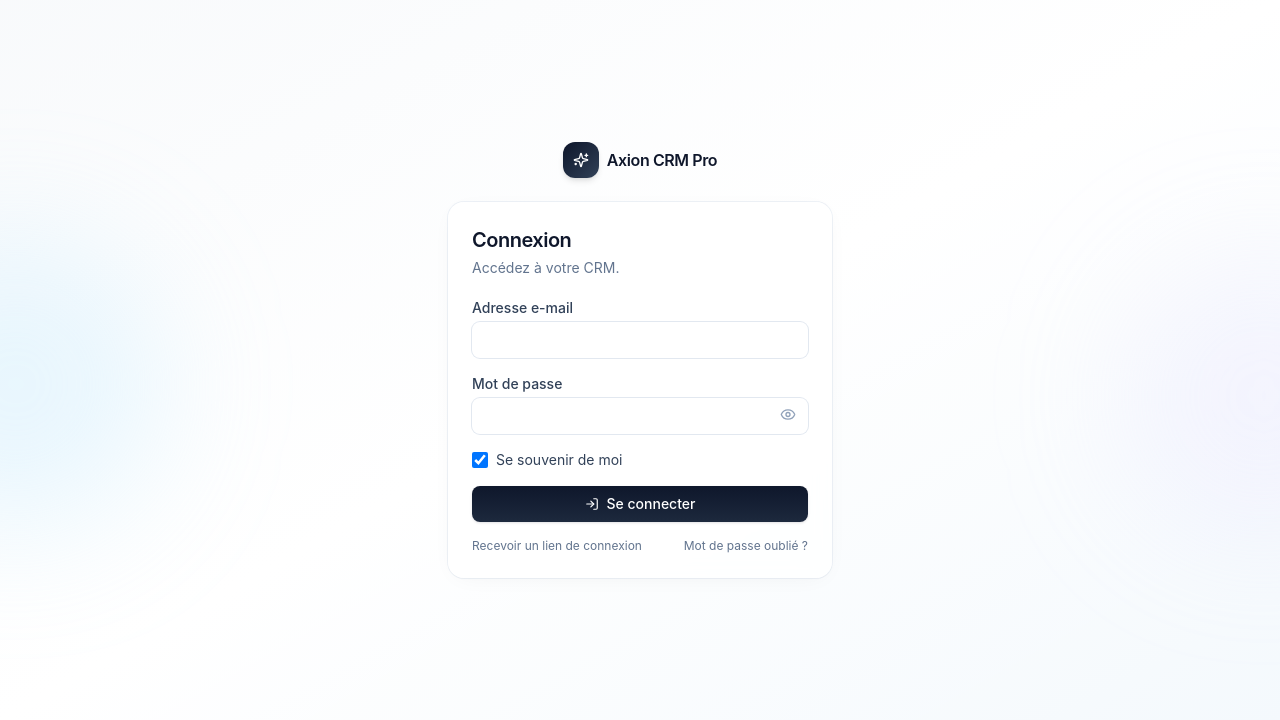
LoginPage — messages d’échec › 429 : « trop d’essais », avec le délai annoncé par Retry-After
Type "will@axion-ia.com" into the field labelled "Adresse e-mail". click: (640, 340)
box: [472, 322, 808, 358]
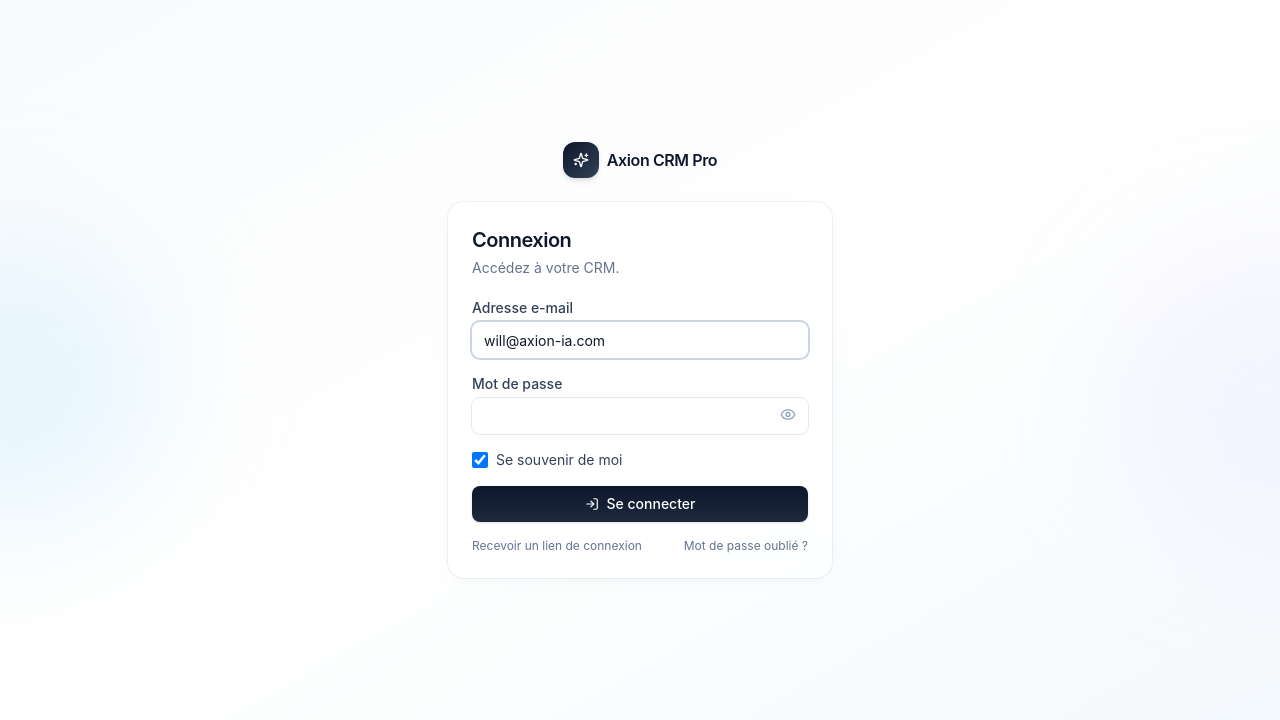
Type "faux-mot-de-passe" into the password field labelled "Mot de passe". click: (640, 416)
box: [472, 398, 808, 434]
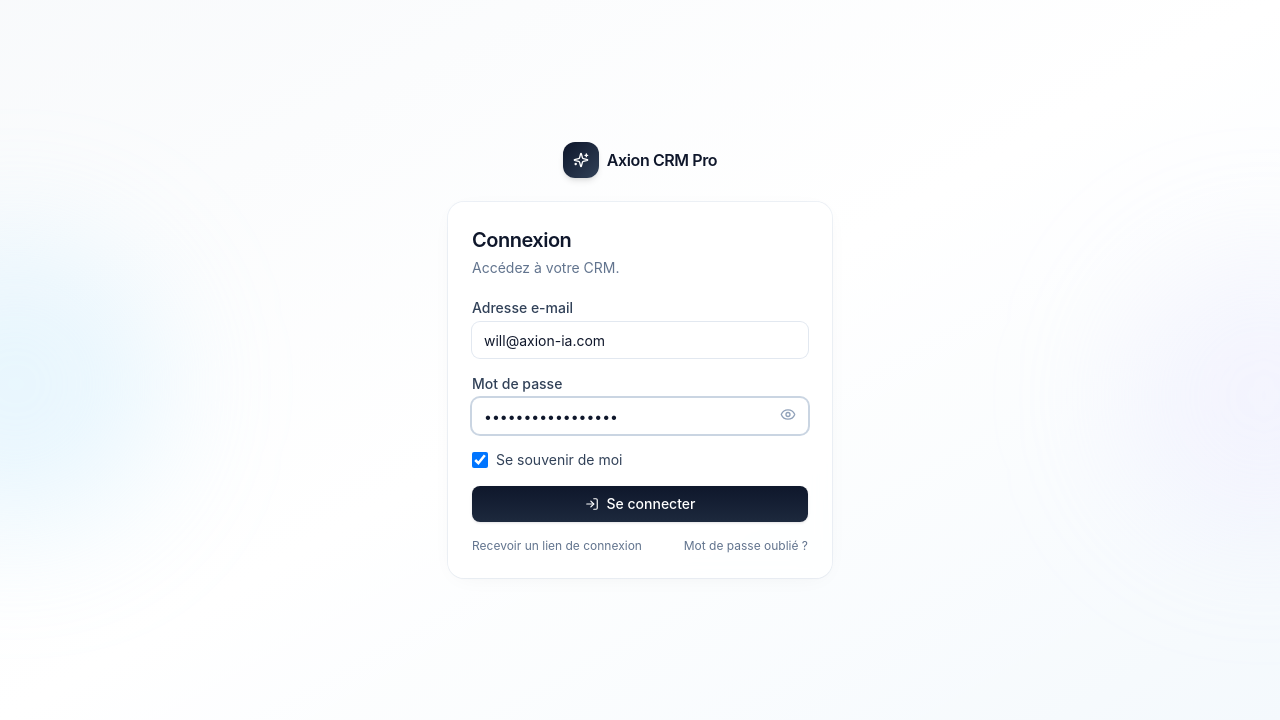
Click the button "Se connecter". click: (640, 504)
box: [472, 486, 808, 522]
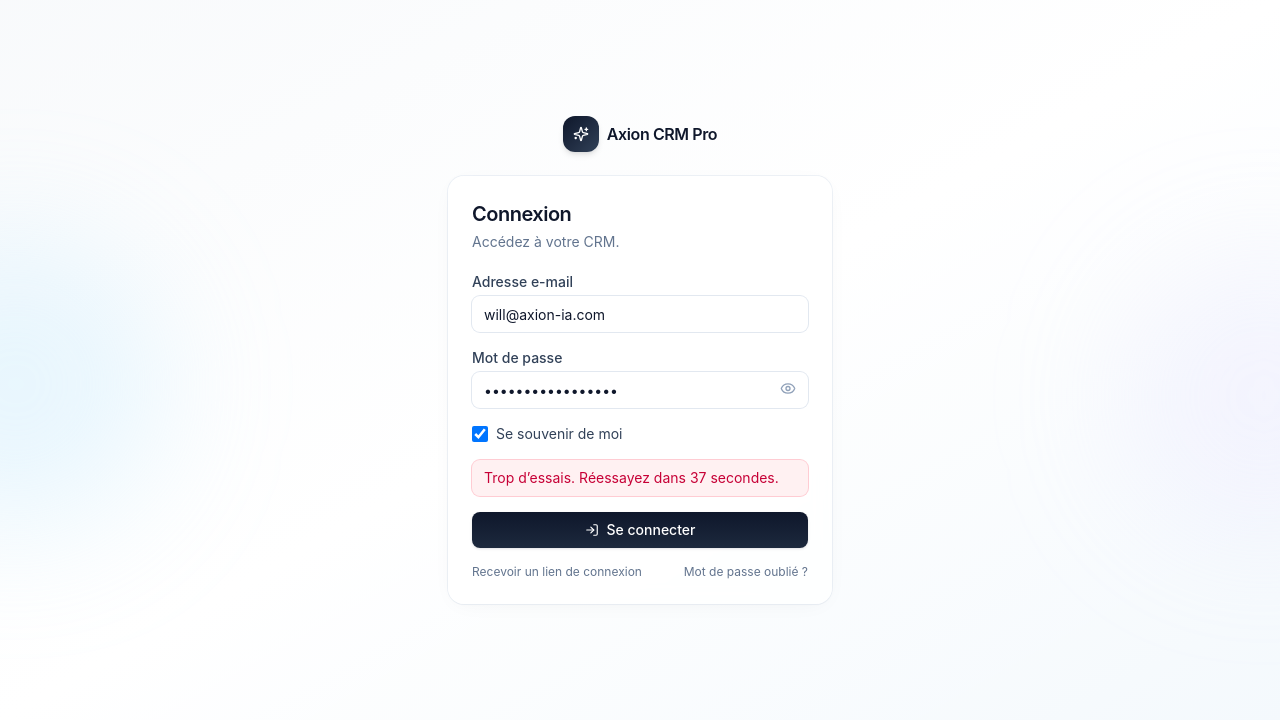
expect the message does not show "Too Many Attempts": met, box [472, 460, 808, 496]
expect the message shows "Trop d’essais": met, box [484, 469, 779, 486]
expect the message shows "37 secondes": met, box [484, 469, 779, 486]
